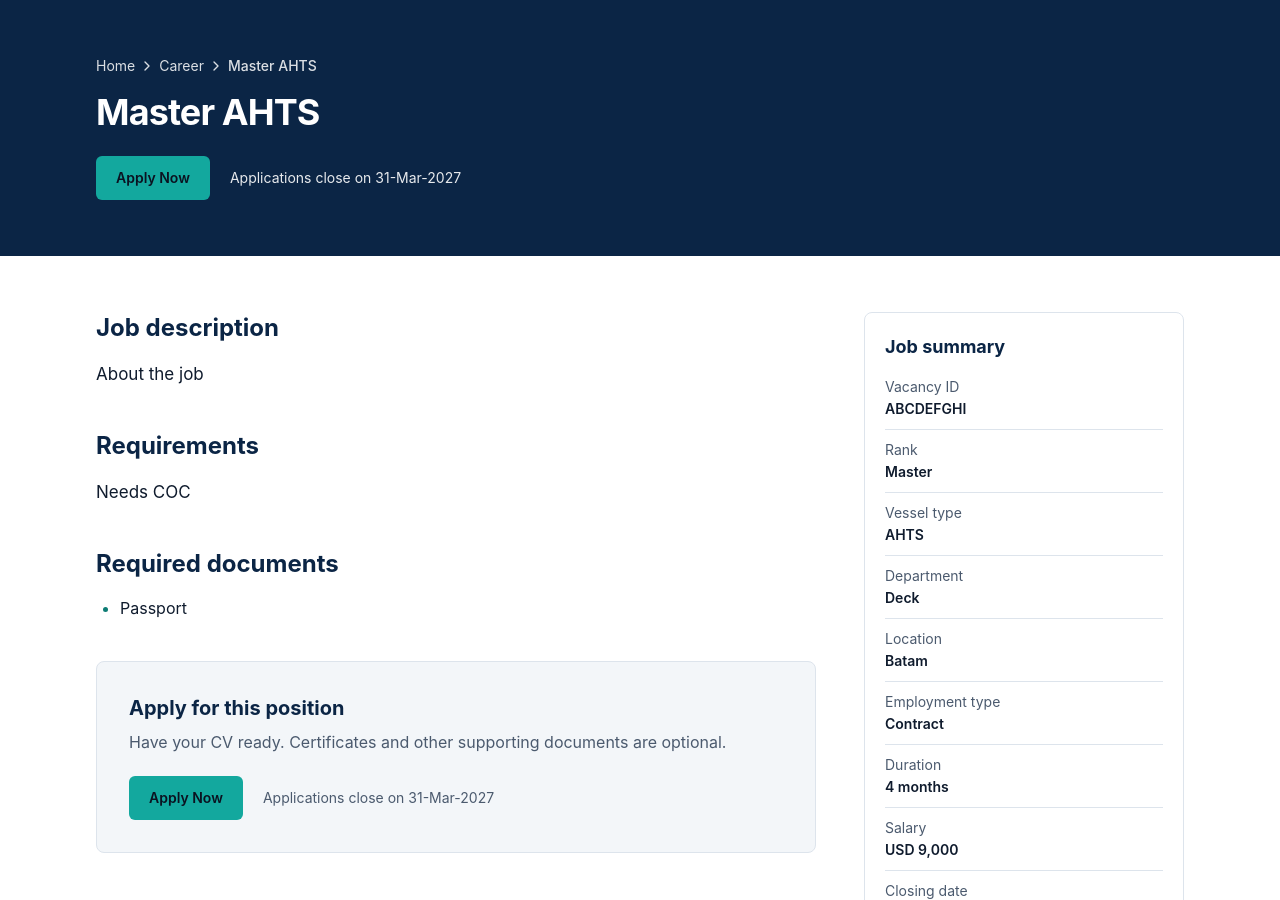
vacancy page › renders details and the required documents, and opens the application form from an Apply Now button
Expected: the heading "Master AHTS" is shown, [96,90,319,134]
Expected: the list item "Passport" is shown, [120,598,187,618]
Click the button "Apply Now" below "Apply for this position" at [186, 798], box [129,776,243,820]
(page scrolled)
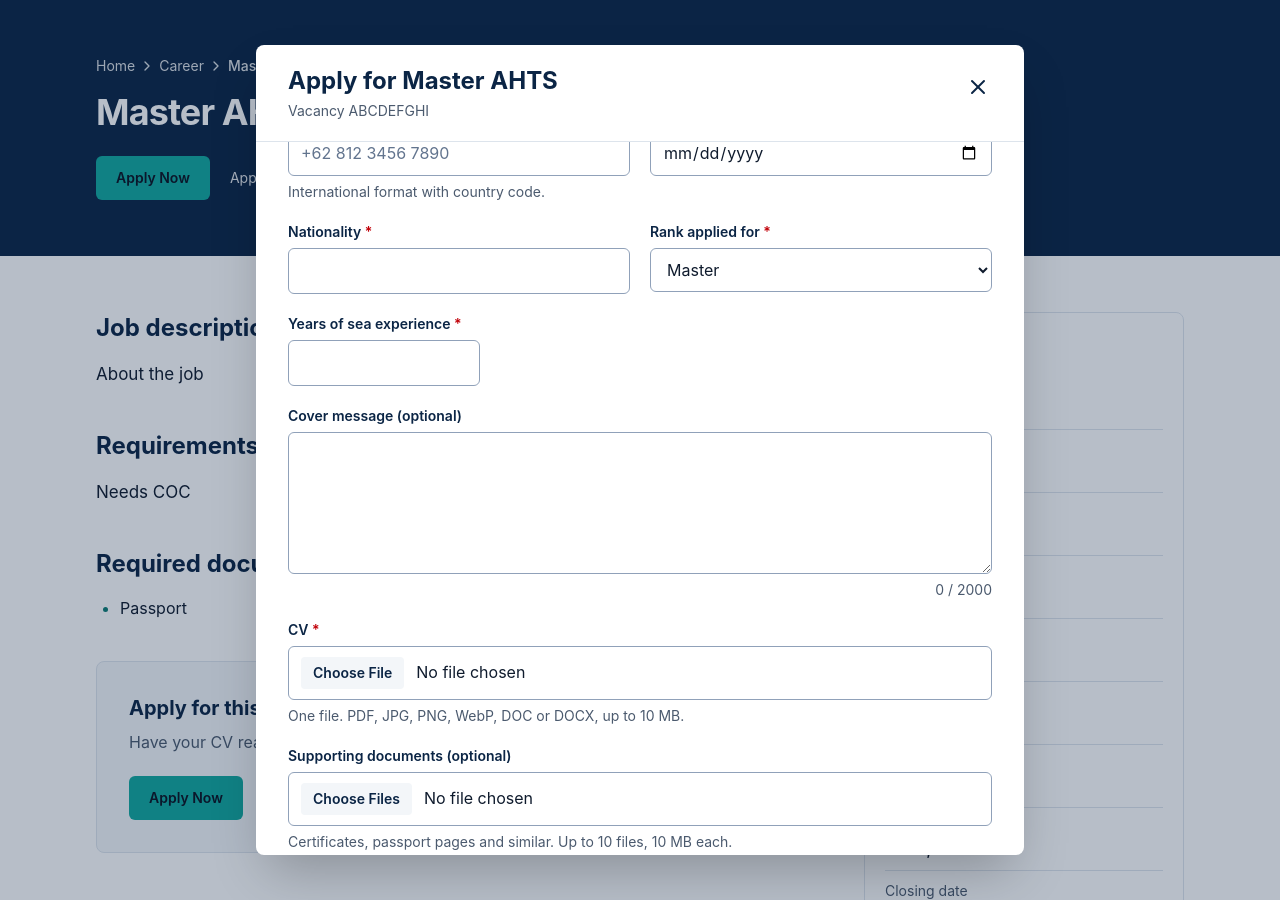
Expected: the form named "Job application" is shown, [288,142,992,855]
